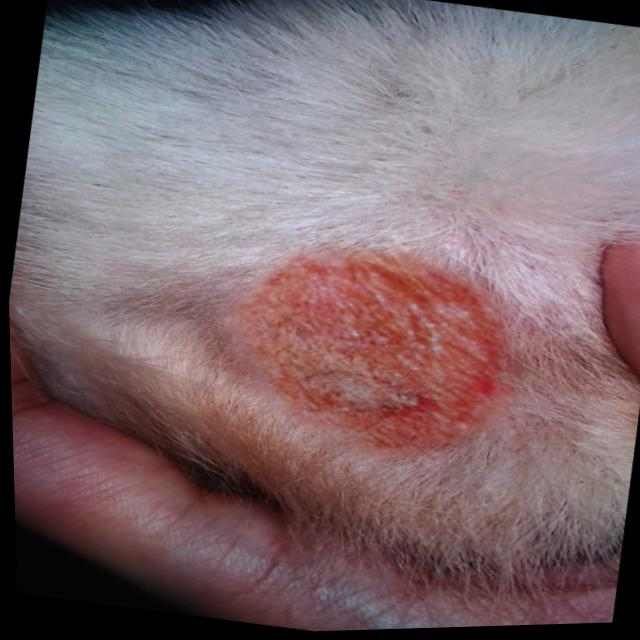ringworm: (203, 209, 560, 478)
